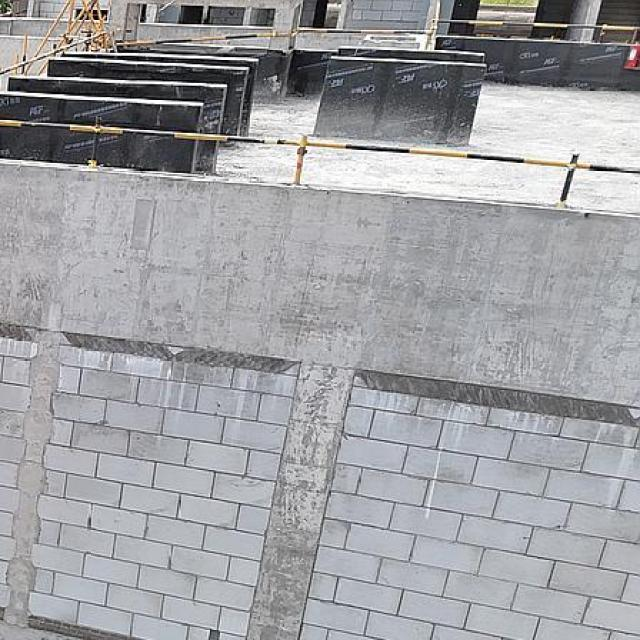Guardrail: (0, 114, 640, 206), (298, 16, 640, 43), (0, 29, 107, 76), (114, 32, 276, 48)
